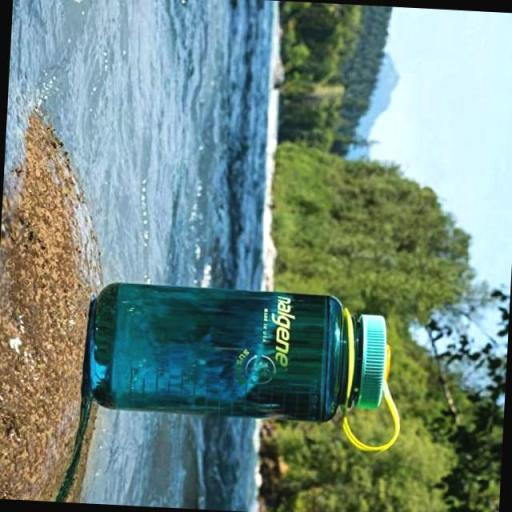bottle: (82, 276, 411, 455)
